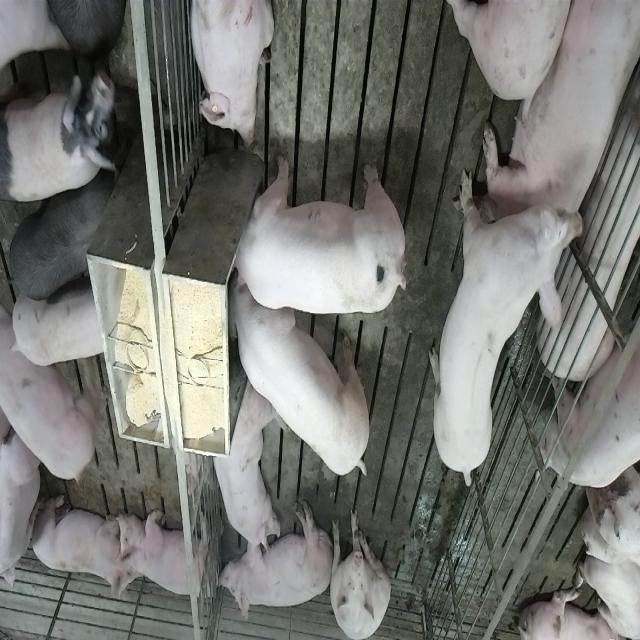Feeding: (228, 274, 375, 480), (230, 154, 412, 318)
Lateral_lying: (216, 498, 334, 625)
Sitting: (328, 506, 391, 638)
Standing: (429, 158, 586, 483), (542, 292, 640, 484), (2, 304, 104, 486), (2, 64, 121, 204), (4, 165, 118, 303), (10, 282, 108, 366)
Sternal_lying: (488, 5, 640, 279), (187, 0, 275, 150), (207, 382, 277, 570), (29, 491, 130, 599), (115, 504, 216, 604)
